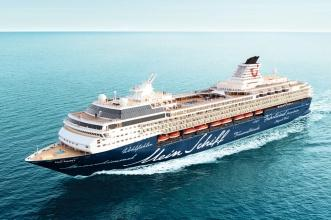youlun: (23, 52, 317, 180)
